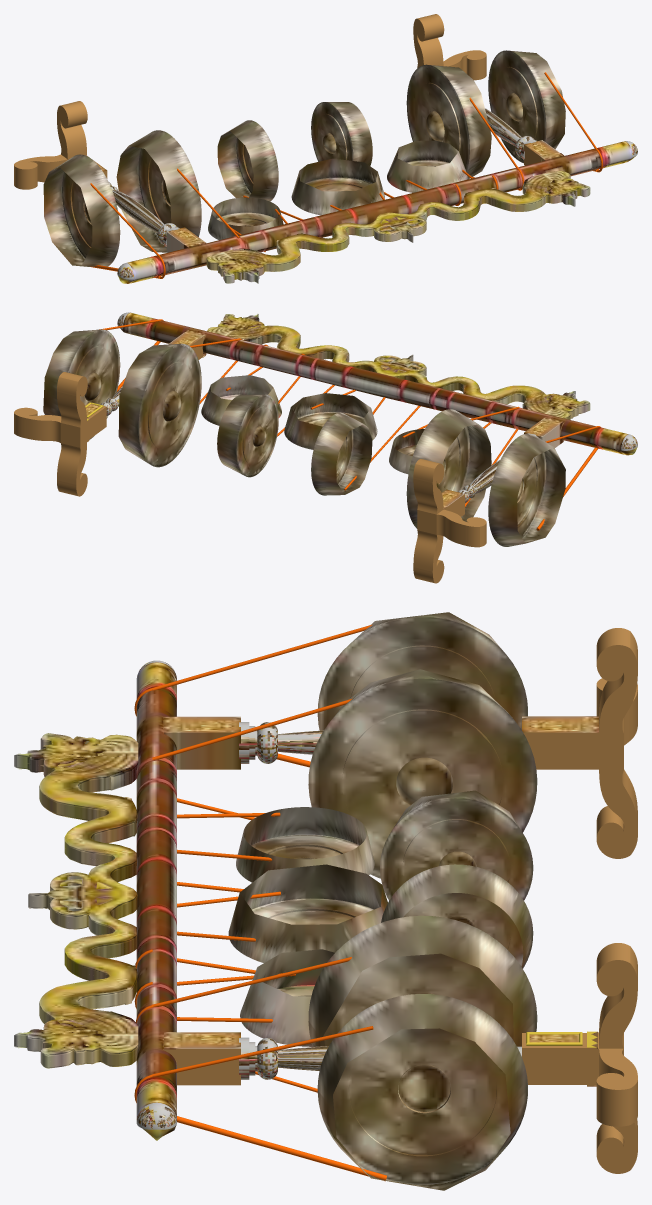
Rendered from gong.glb.
The picture shows the model from 3 angles, top to bottom: view 1: azimuth 30°, elevation 25°; view 2: azimuth 150°, elevation 25°; view 3: azimuth 270°, elevation 25°; orthographic projection. The views are drawn at different scales.
Visible parts, largest first — view 1: Object_12, Object_13, Object_108, Object_16, Object_15, Object_3, Object_17, Object_18; view 2: Object_12, Object_108, Object_13, Object_16, Object_15, Object_3, Object_17; view 3: Object_12, Object_108, Object_13, Object_15, Object_16, Object_3, Object_14, Object_18, Object_17.
Boxes of the visible parts, box(x1,y1,x2,y2) form: Object_12: box(43, 50, 637, 283); Object_13: box(68, 93, 564, 252); Object_108: box(14, 14, 544, 189); Object_16: box(206, 213, 413, 283); Object_15: box(384, 171, 590, 236); Object_3: box(90, 72, 603, 278); Object_17: box(109, 182, 179, 246); Object_18: box(485, 108, 536, 159); Object_12: box(43, 312, 637, 546); Object_108: box(14, 334, 486, 583); Object_13: box(84, 330, 563, 508); Object_16: box(385, 355, 590, 419); Object_15: box(207, 313, 411, 374); Object_3: box(99, 319, 600, 530); Object_17: box(458, 434, 537, 502); Object_12: box(28, 612, 537, 1190); Object_108: box(164, 628, 637, 1173); Object_13: box(164, 716, 598, 1113); Object_15: box(14, 893, 138, 1068); Object_16: box(14, 733, 138, 908); Object_3: box(134, 624, 386, 1181); Object_14: box(396, 757, 476, 923); Object_18: box(239, 1037, 521, 1079); Object_17: box(239, 722, 323, 763).
Bounding box in the file's own units: 8.13 × 1.77 × 4.69.
Materials: 4 (1 with a texture image).
